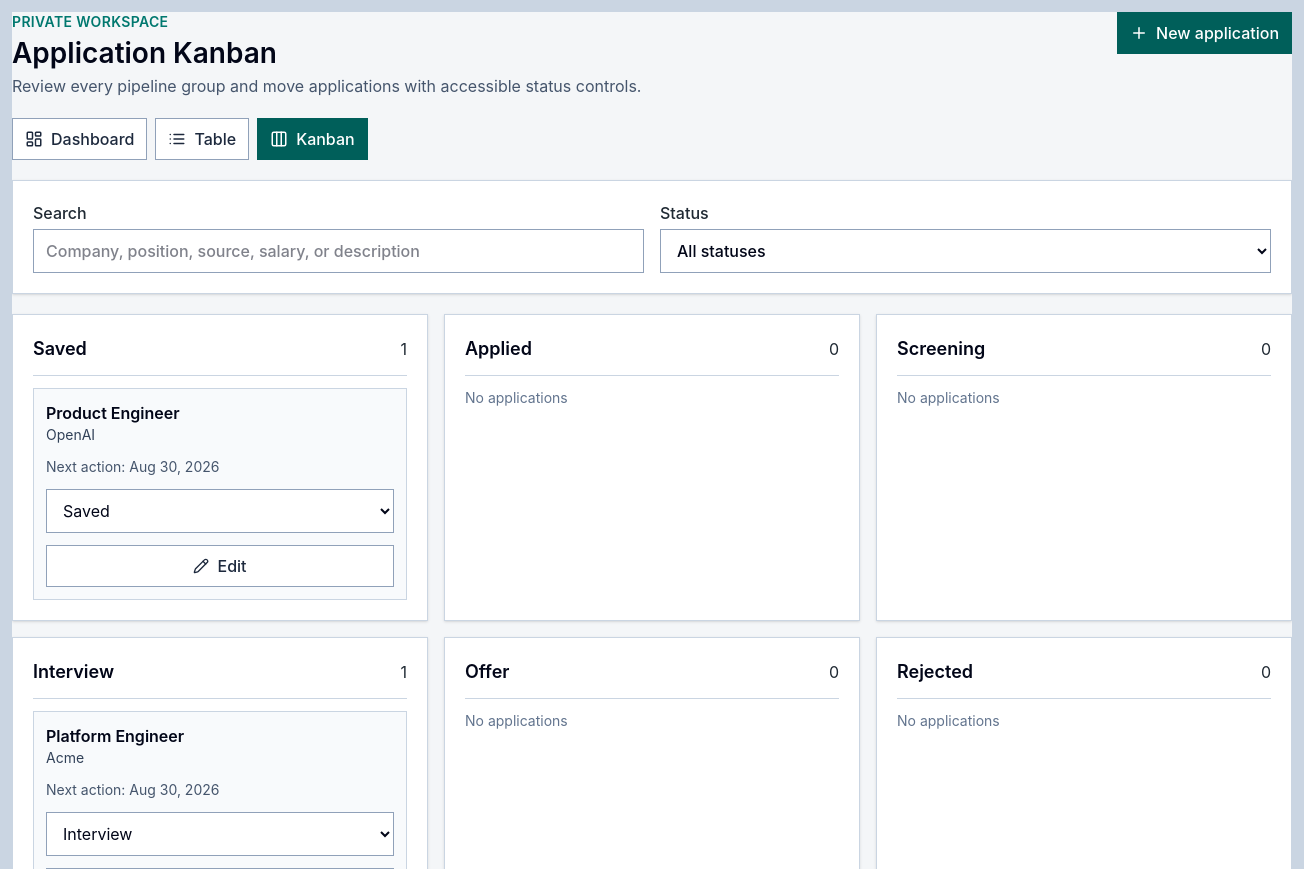
Test: job application table and Kanban › renders all seven Kanban groups and reports a failed keyboard status change
This screenshot has width=1304, height=869.
Expected: the heading "Saved" is shown, x1=33 y1=335 x2=87 y2=363
Expected: the heading "Applied" is shown, x1=465 y1=335 x2=532 y2=363
Select "Applied" in the dropdown named "Status for Product Engineer at OpenAI" at (220, 511), box x1=46 y1=489 x2=394 y2=533
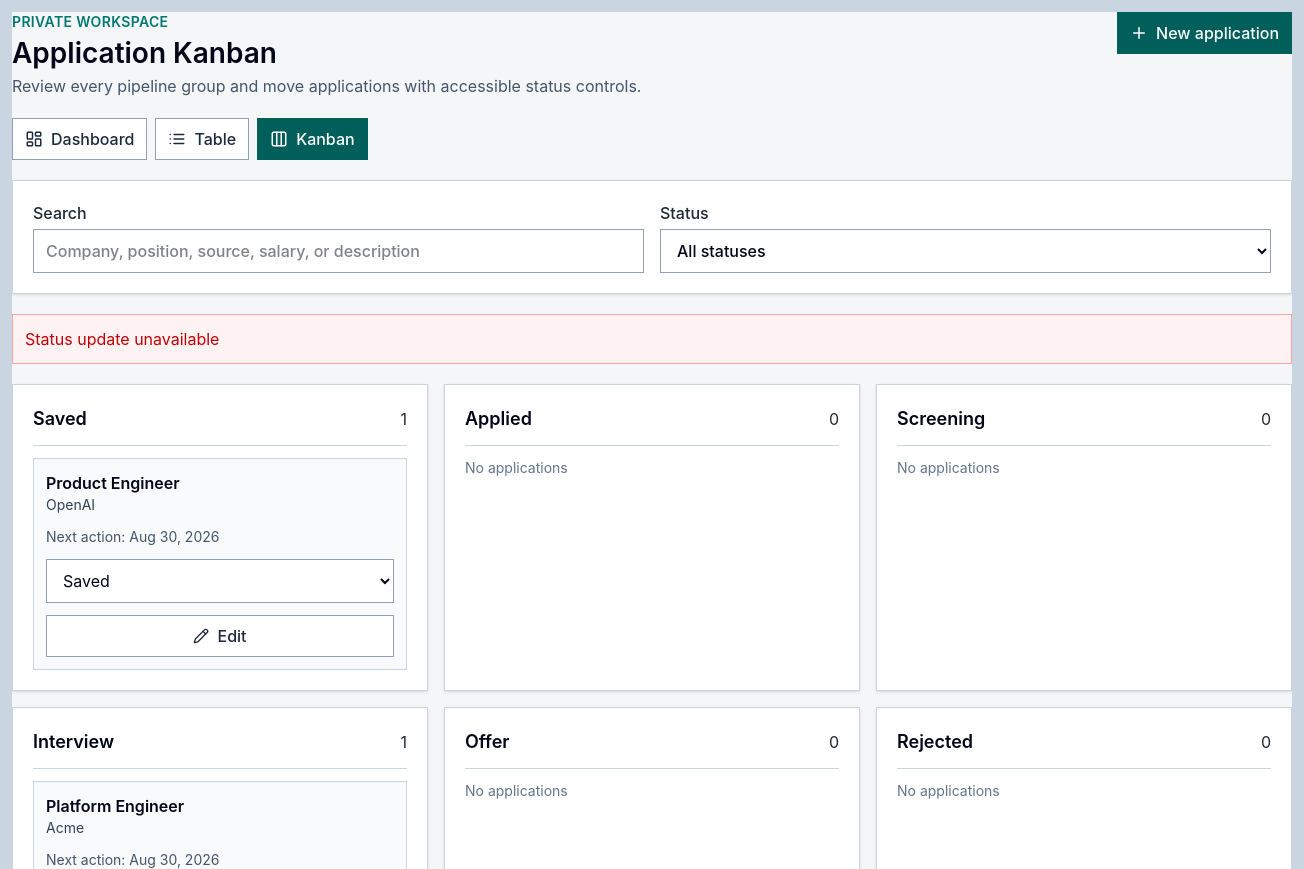
Expected: the message reads "Status update unavailable", x1=25 y1=329 x2=220 y2=349
